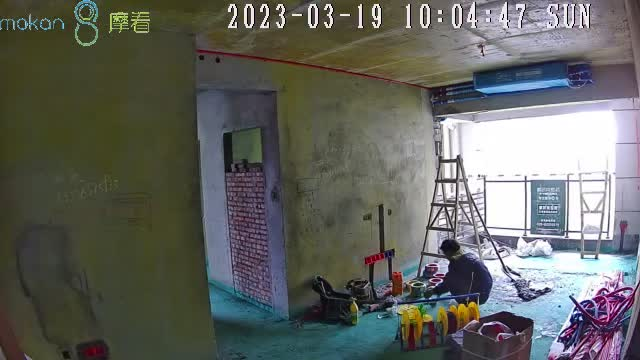people: (424, 239, 494, 308)
window: (453, 109, 616, 239)
